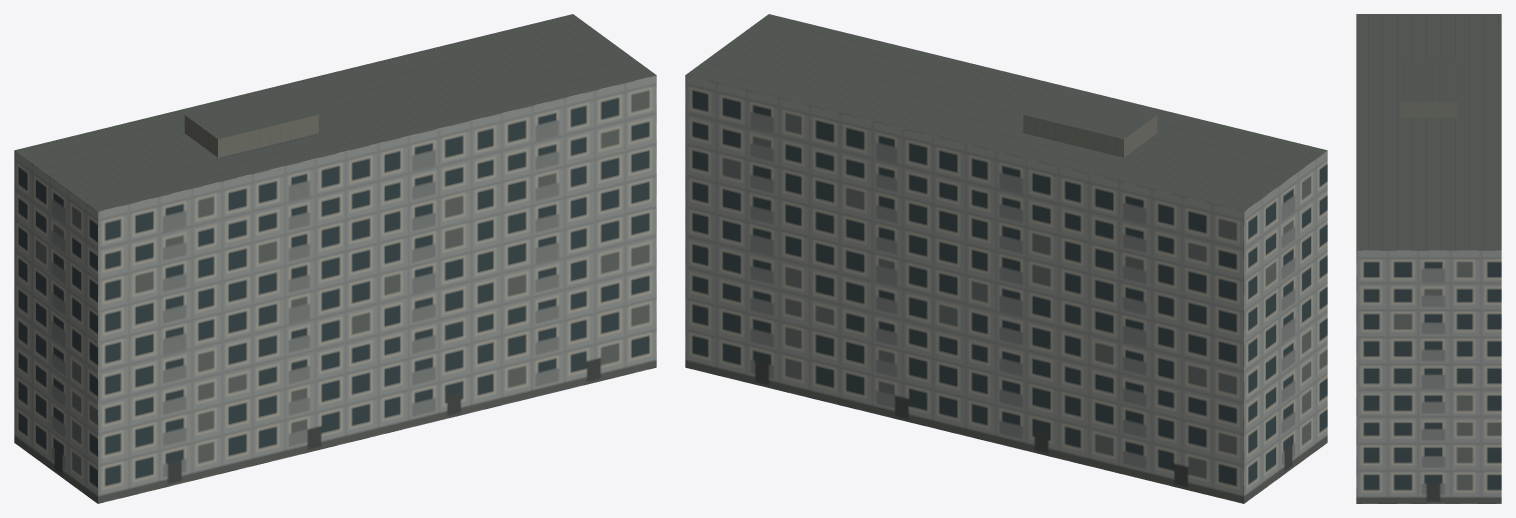
File: kyiv_panel_09_01.obj
The picture shows the model from 3 angles, left to right: view 1: azimuth 30°, elevation 25°; view 2: azimuth 150°, elevation 25°; view 3: azimuth 270°, elevation 25°; orthographic projection. The views are drawn at different scales.
Visible parts, largest first — view 1: kyiv_panel_09_01; view 2: kyiv_panel_09_01; view 3: kyiv_panel_09_01.
Boxes of the visible parts, x1,y1,x2,y2 form: kyiv_panel_09_01: (14,14,656,503); kyiv_panel_09_01: (685,14,1327,503); kyiv_panel_09_01: (1356,14,1501,503).
Bounding box in the file's own units: 54 × 28.7 × 14.
1 material, 1 textured.
